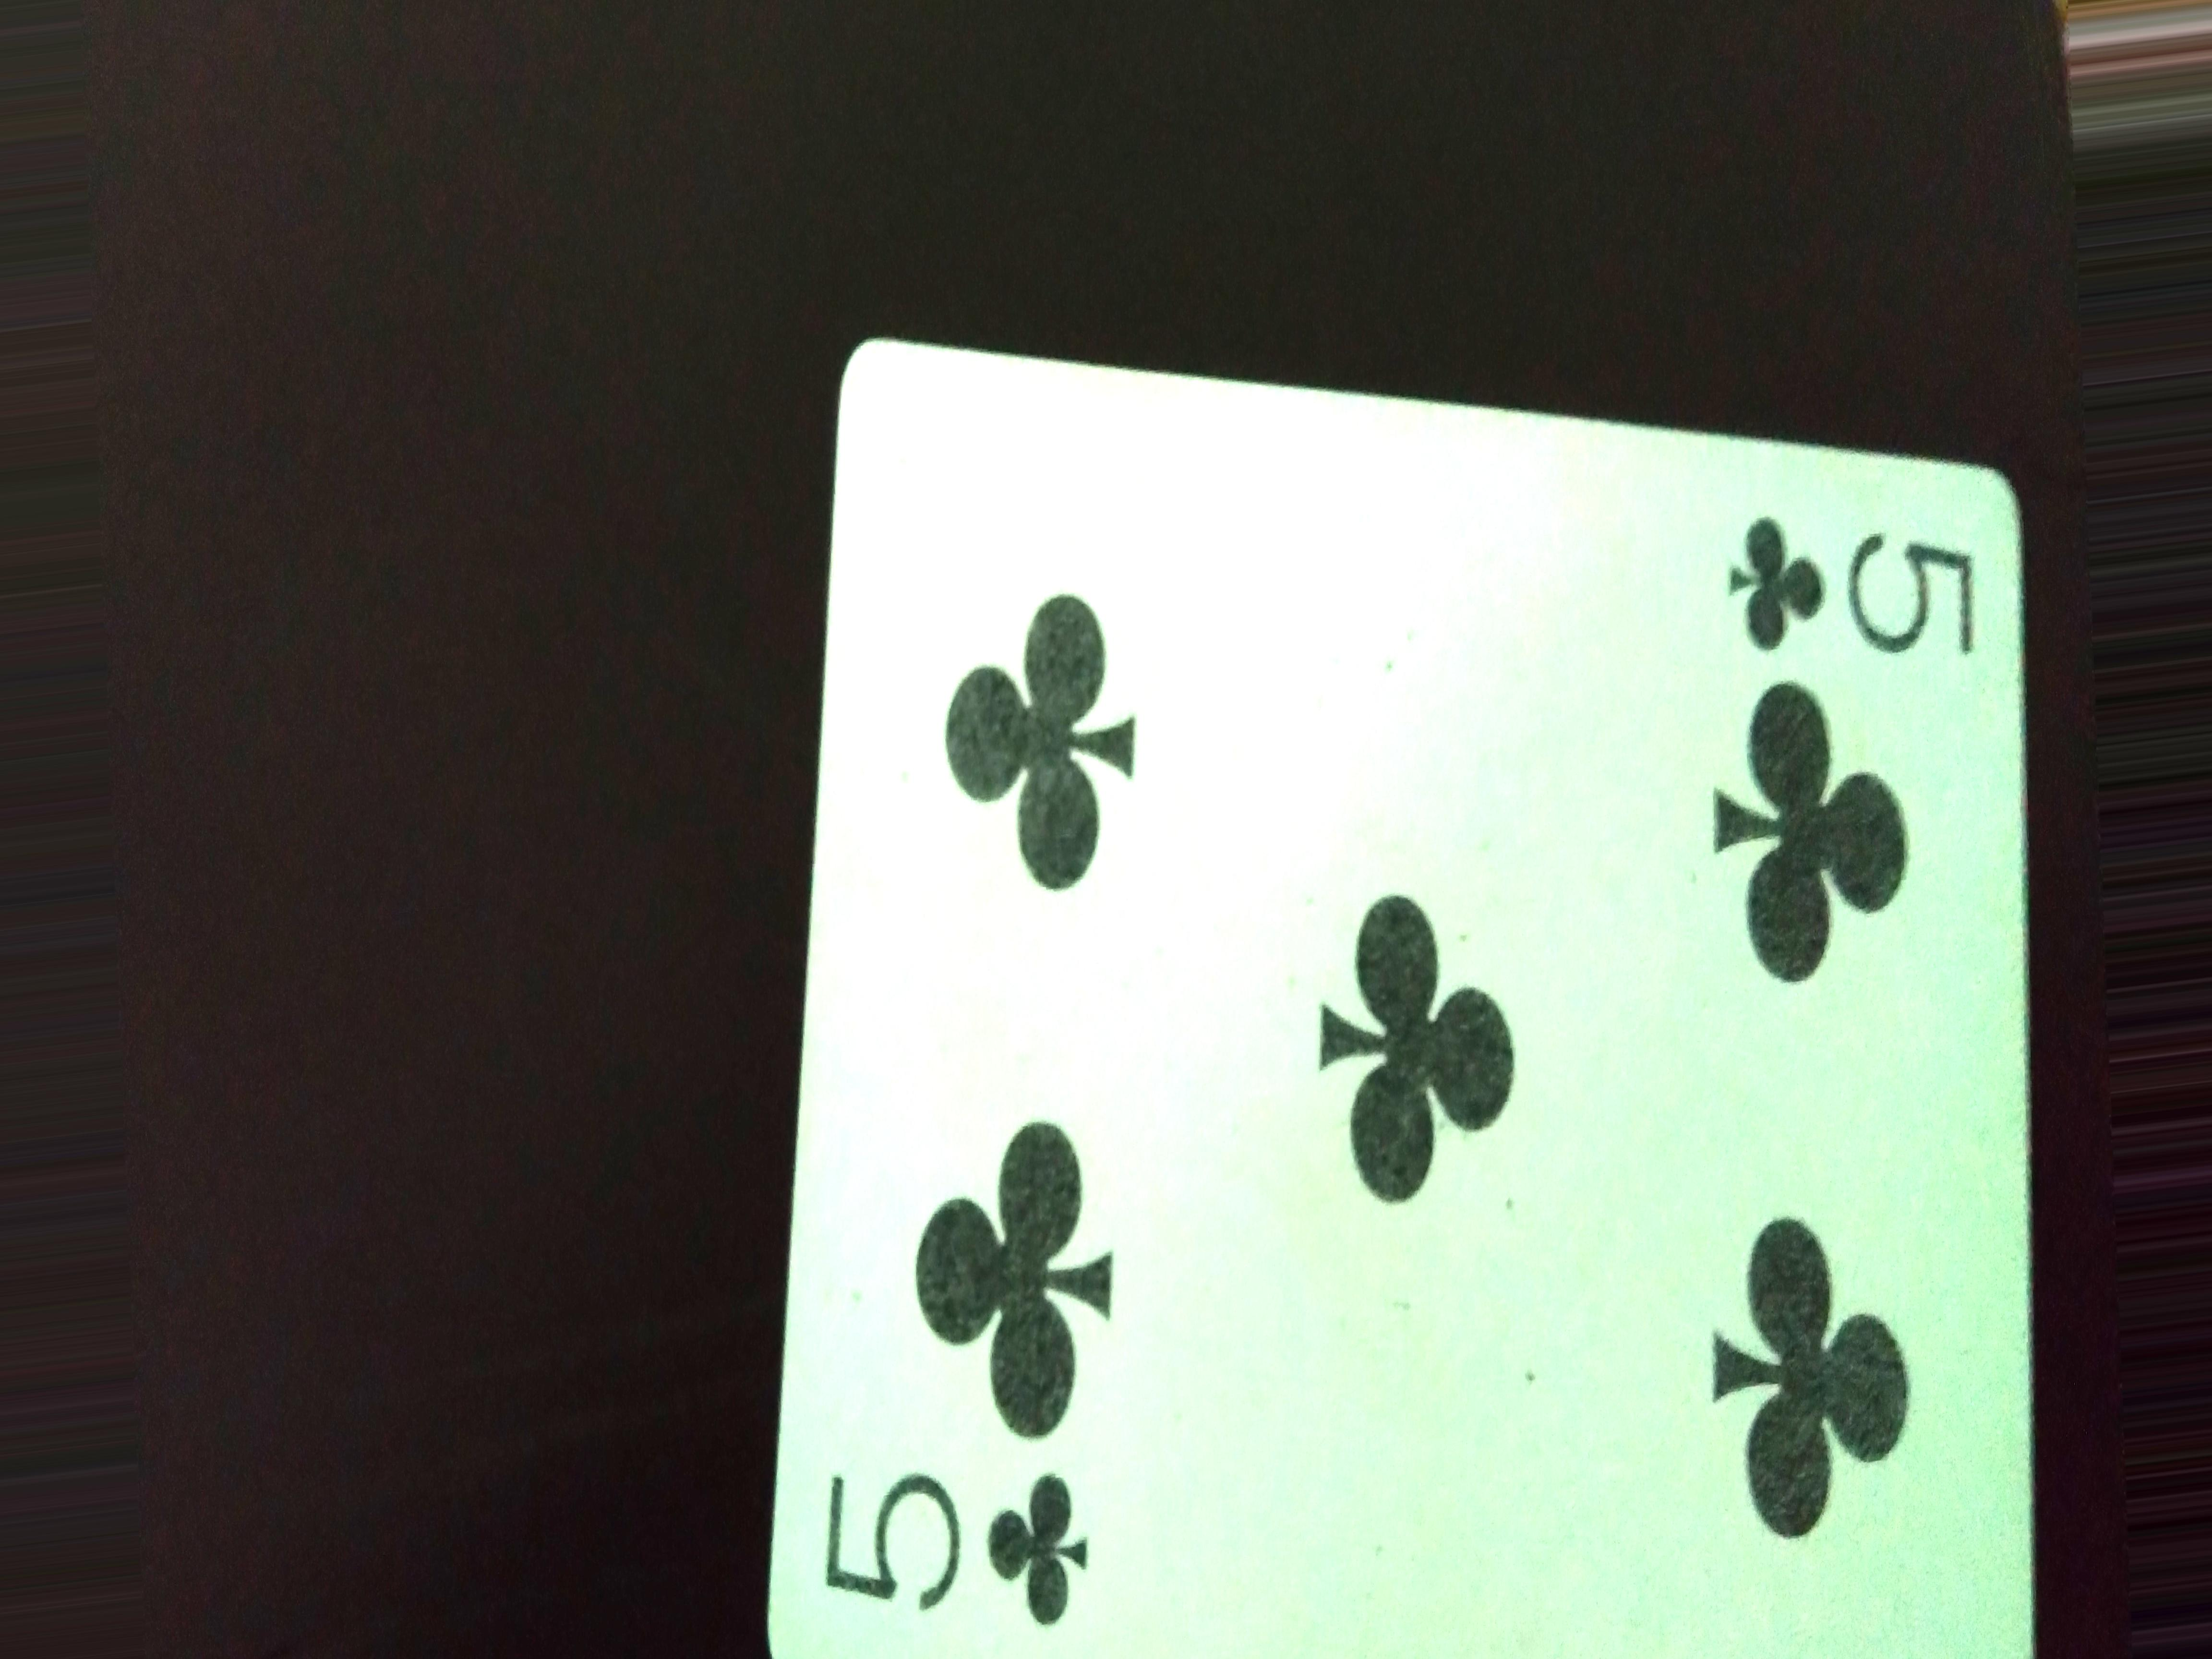5C: (1700, 491, 1993, 678)
